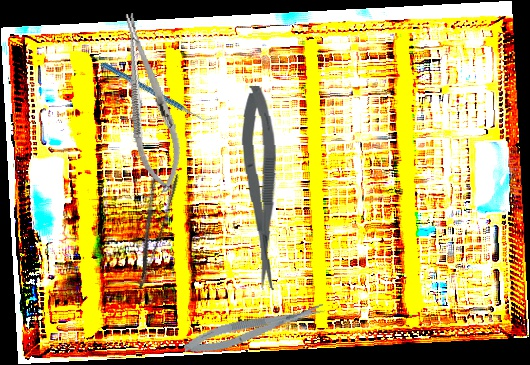Chopper: (100, 31, 216, 152)
Dressing Forceps: (117, 167, 182, 291)
Micro Scissor: (181, 298, 328, 360), (239, 85, 281, 291)
Needle Holder: (108, 8, 190, 197)
